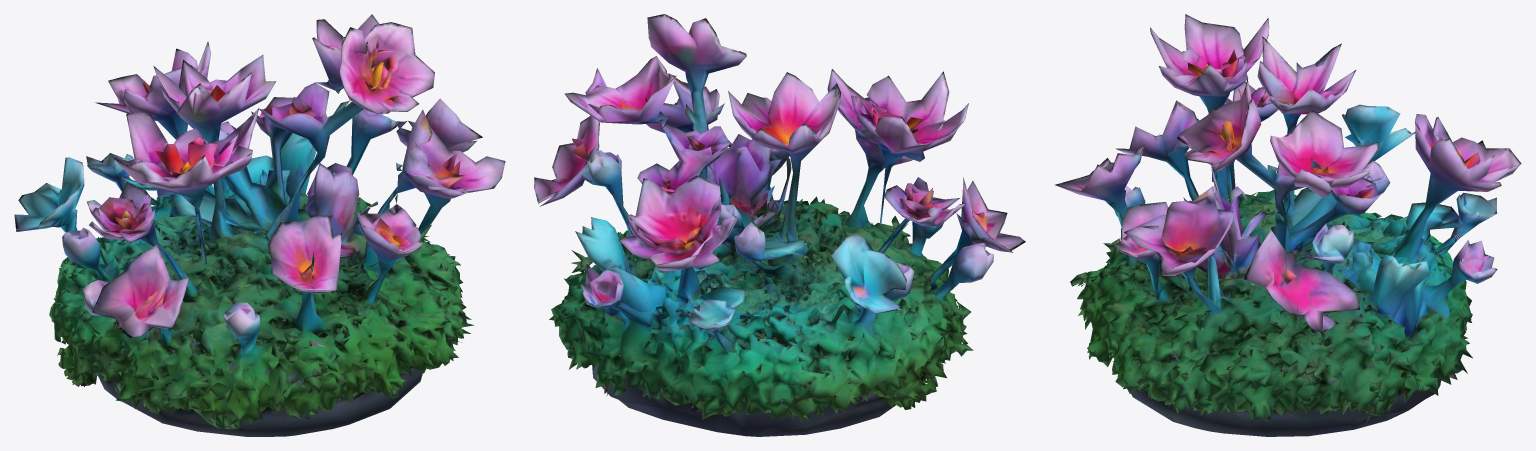
File: flower-cluster.glb
3 views of the same model, side by side, from view 1: azimuth 30°, elevation 25°; view 2: azimuth 150°, elevation 25°; view 3: azimuth 270°, elevation 25° (orthographic). The views are drawn at different scales.
Bounding box in the file's own units: 2 × 1.48 × 1.9.
1 material, 1 textured.
